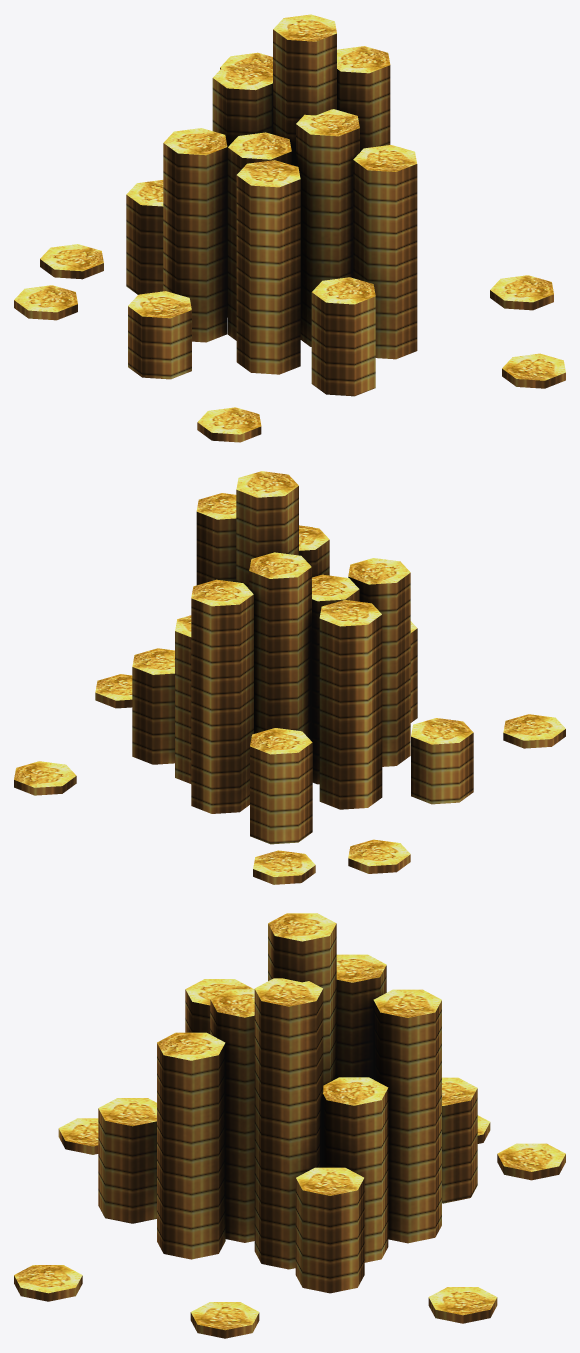
Rendered from Loot_coins_03.FBX.
3 views of the same model, one above another, from view 1: azimuth 30°, elevation 25°; view 2: azimuth 150°, elevation 25°; view 3: azimuth 270°, elevation 25° (orthographic). The views are drawn at different scales.
Visible parts, largest first — view 1: Loot_coins_03; view 2: Loot_coins_03; view 3: Loot_coins_03.
Boxes of the visible parts, x1,y1,x2,y2 form: Loot_coins_03: [14, 14, 565, 442]; Loot_coins_03: [14, 471, 565, 884]; Loot_coins_03: [14, 913, 565, 1338].
Bounding box in the file's own units: 22.01 × 14.26 × 23.5.
